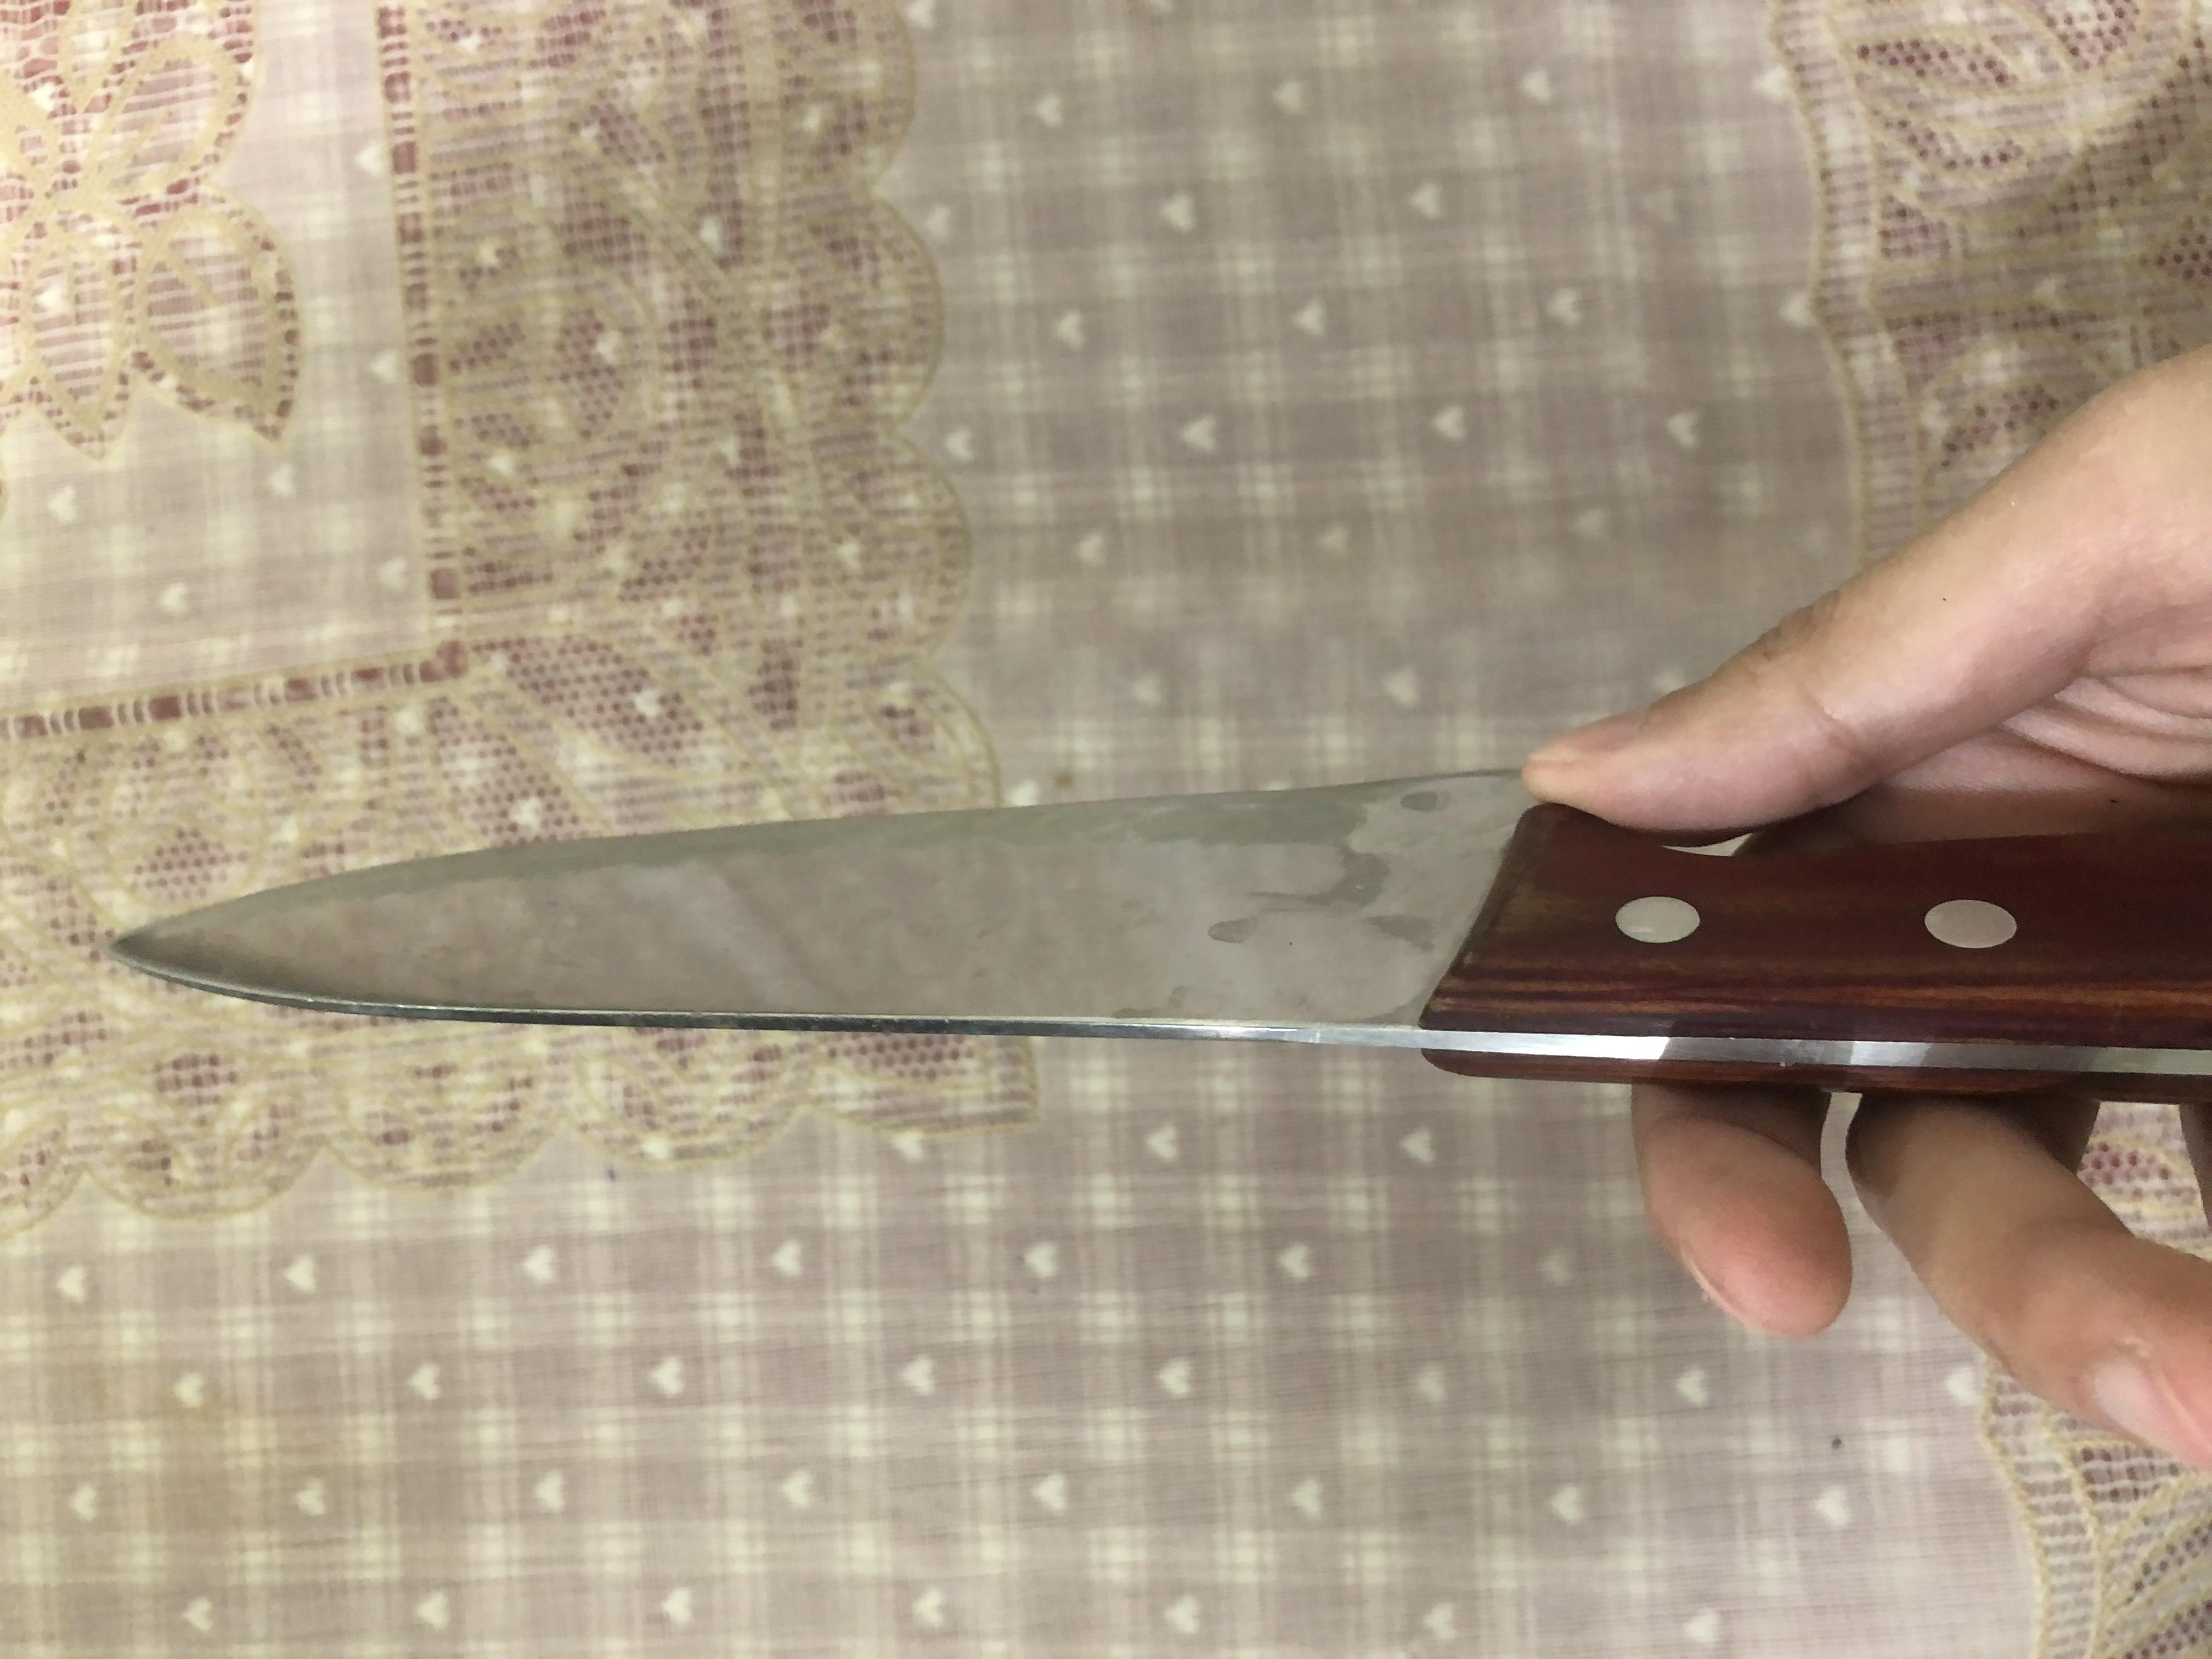weapon: (735, 78, 1209, 1659)
